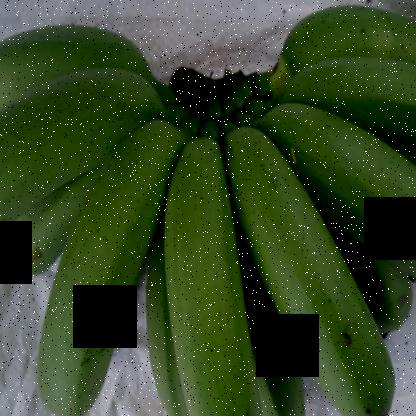freshunripe: (26, 110, 182, 416), (266, 98, 415, 321), (157, 134, 271, 415), (0, 69, 144, 239), (291, 57, 415, 177)
unripe: (215, 117, 391, 415)
